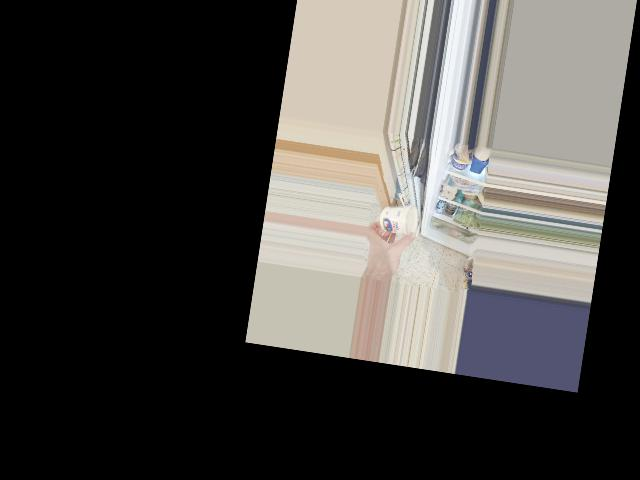cotage: (373, 199, 422, 245)
